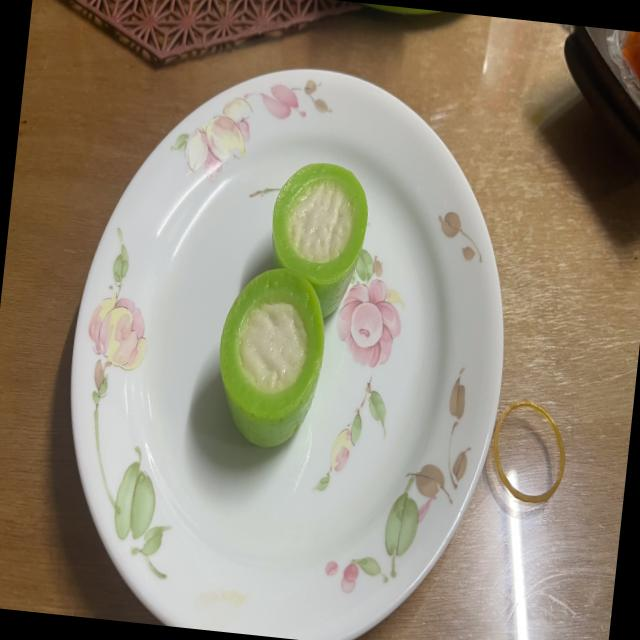nona-manis: (219, 268, 324, 447), (272, 163, 368, 316)
